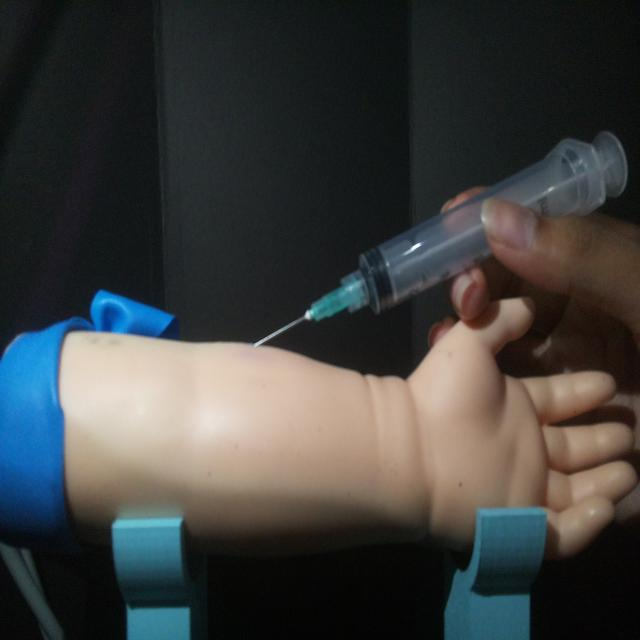25deg: (248, 124, 630, 352)
